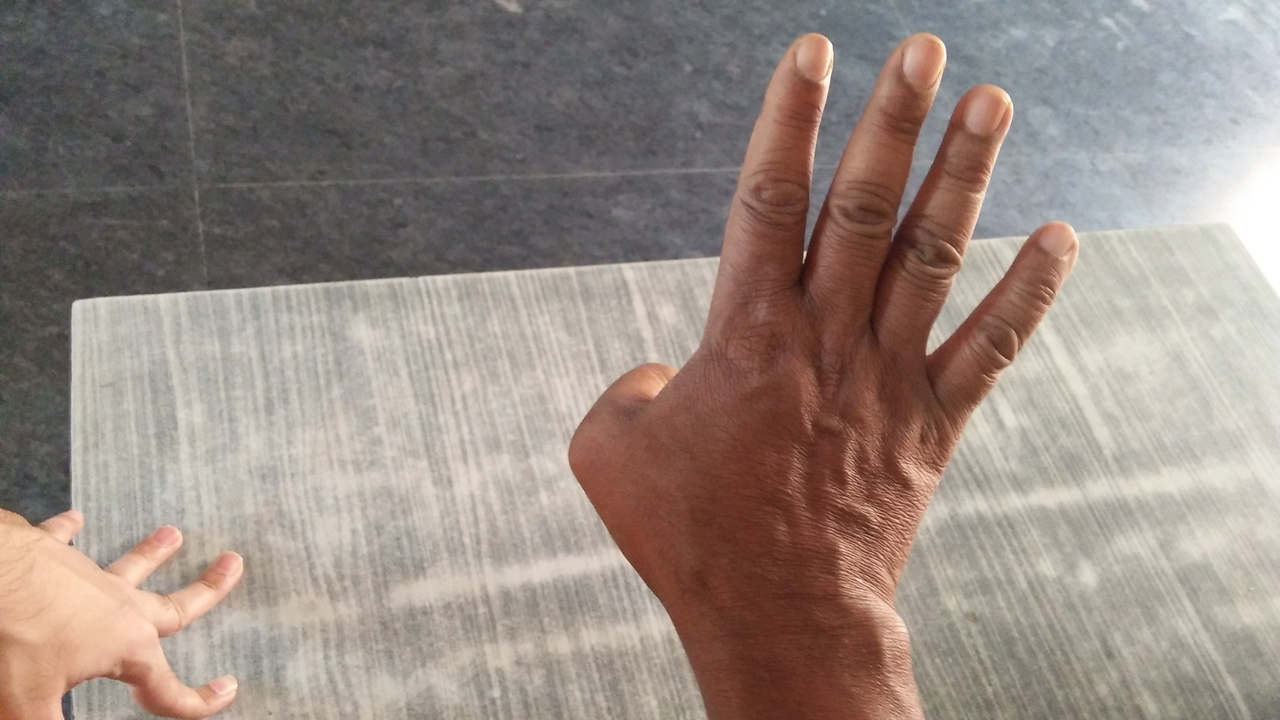fingertip: (778, 26, 844, 88), (890, 26, 958, 86), (954, 80, 1026, 136), (1026, 210, 1096, 266)
